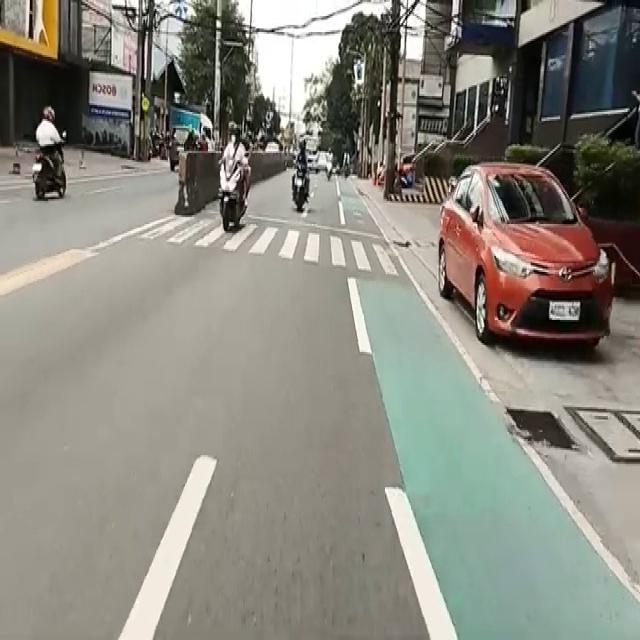car: (420, 153, 606, 329)
motorcycle: (30, 108, 72, 210), (218, 128, 252, 239), (286, 132, 314, 224)
